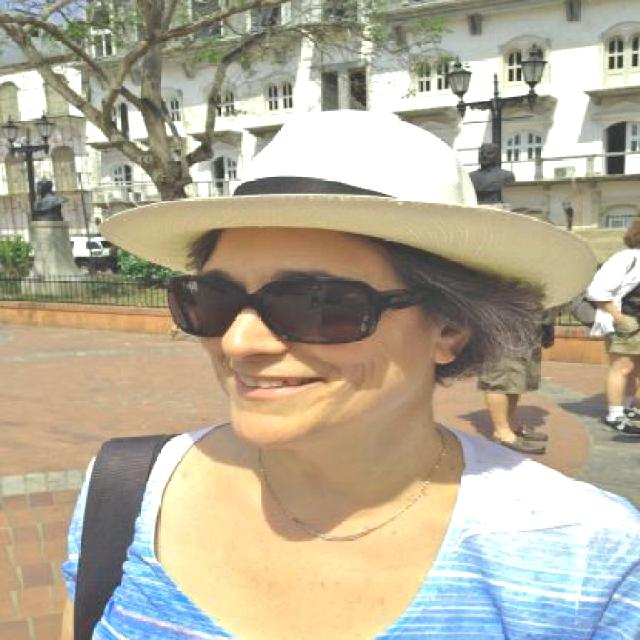face_nomask: (163, 261, 388, 416)
glasses: (154, 265, 475, 347)
head_nohelmet: (167, 112, 508, 260)
person: (49, 111, 640, 640)
